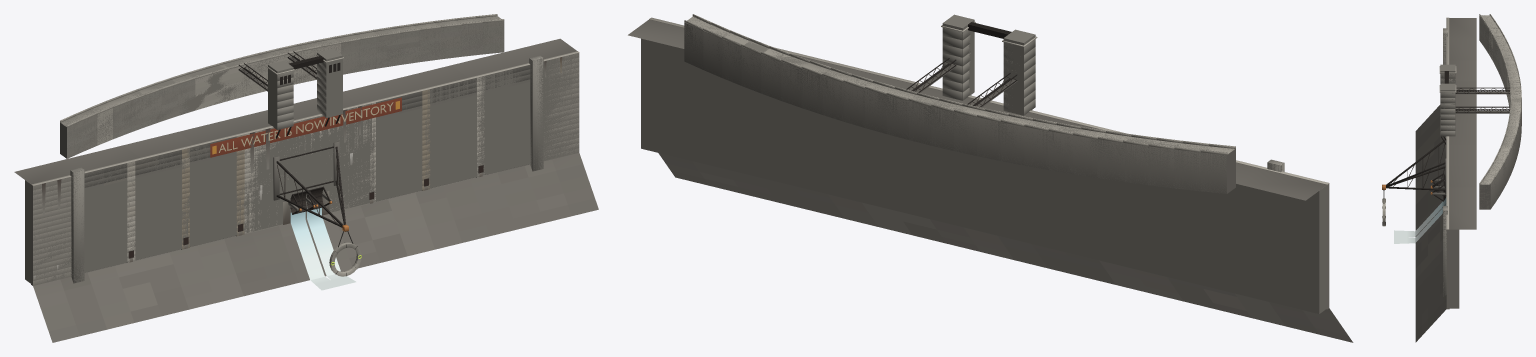
File: landmark_dam.glb
3 views of the same model, side by side, from view 1: azimuth 30°, elevation 25°; view 2: azimuth 150°, elevation 25°; view 3: azimuth 270°, elevation 25° (orthographic). The views are drawn at different scales.
Parts seen in each view (by area): view 1: landmark_dam, landmark_dam-col-col; view 2: landmark_dam-col-col, landmark_dam; view 3: landmark_dam, landmark_dam-col-col.
Boxes of the visible parts, x1,y1,x2,y2 form: landmark_dam: (14, 14, 598, 342); landmark_dam-col-col: (25, 14, 579, 283); landmark_dam-col-col: (641, 14, 1329, 313); landmark_dam: (628, 14, 1353, 342); landmark_dam: (1382, 14, 1521, 342); landmark_dam-col-col: (1440, 14, 1521, 308).
Size of the model in its own units: 400 by 141 by 112.
